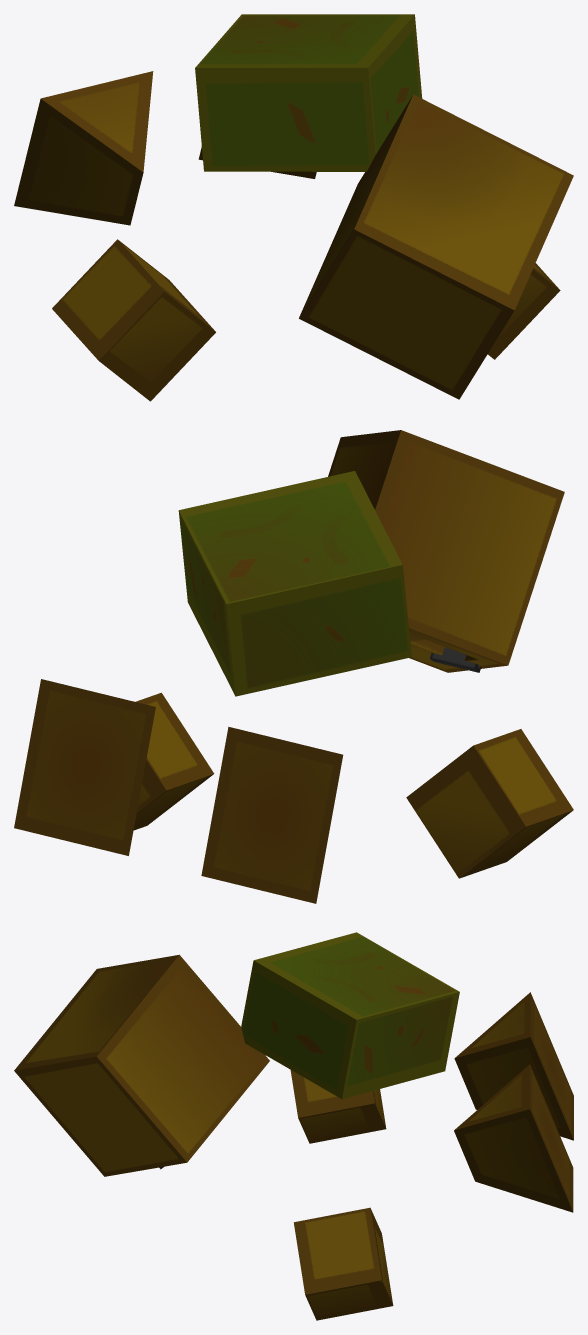
Rendered from CorpoEmpalada.obj.
3 views of the same model, one above another, from view 1: azimuth 30°, elevation 25°; view 2: azimuth 150°, elevation 25°; view 3: azimuth 270°, elevation 25° (orthographic). The views are drawn at different scales.
Visible parts, largest first — view 1: Corpo_Cube.006; view 2: Corpo_Cube.006; view 3: Corpo_Cube.006.
Part boxes in pixels (box(x1,y1,x2,y2)): Corpo_Cube.006: box(14, 14, 573, 401); Corpo_Cube.006: box(14, 430, 573, 903); Corpo_Cube.006: box(14, 932, 573, 1320).
Size of the model in its own units: 2.78 by 2.09 by 3.53.
